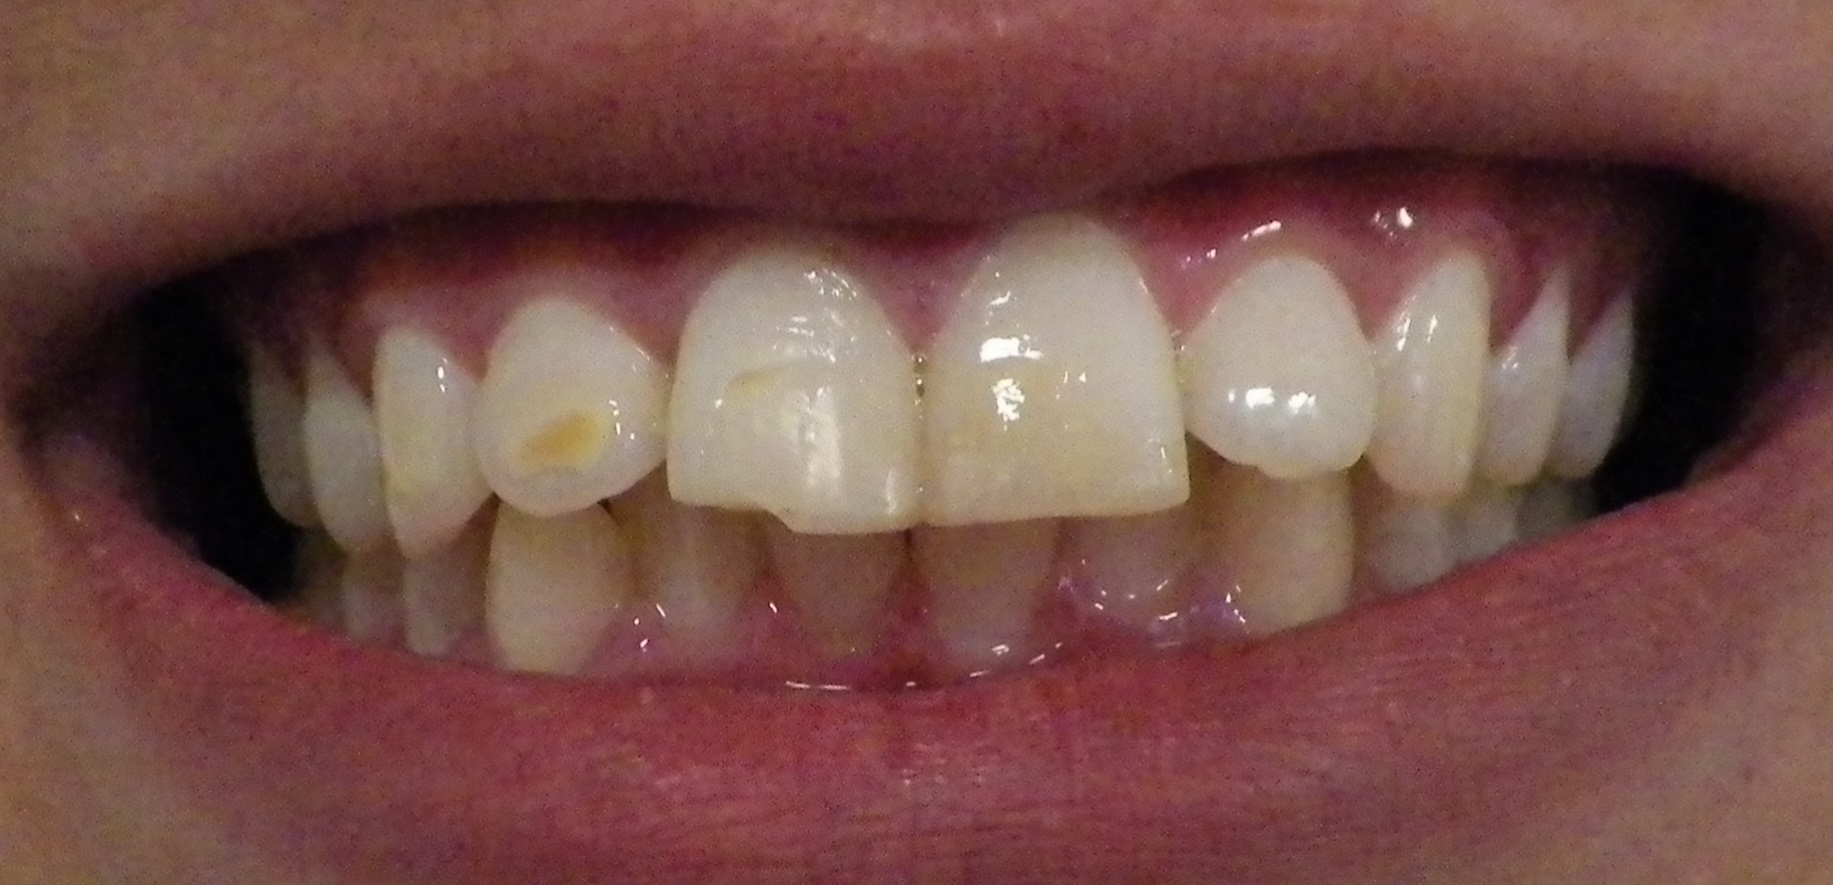boca: (256, 217, 1718, 639)
